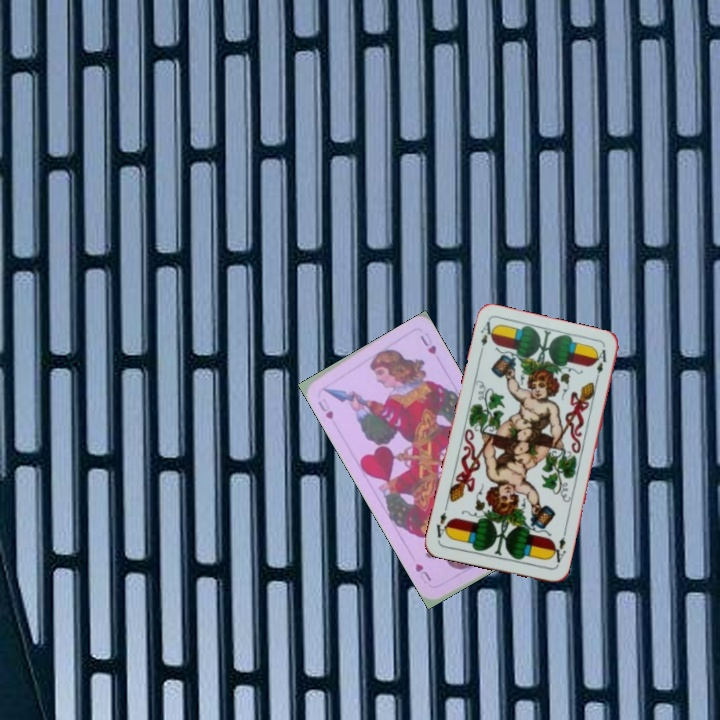EA: (547, 529, 569, 569), (476, 317, 498, 357)
HU: (314, 394, 336, 422)
